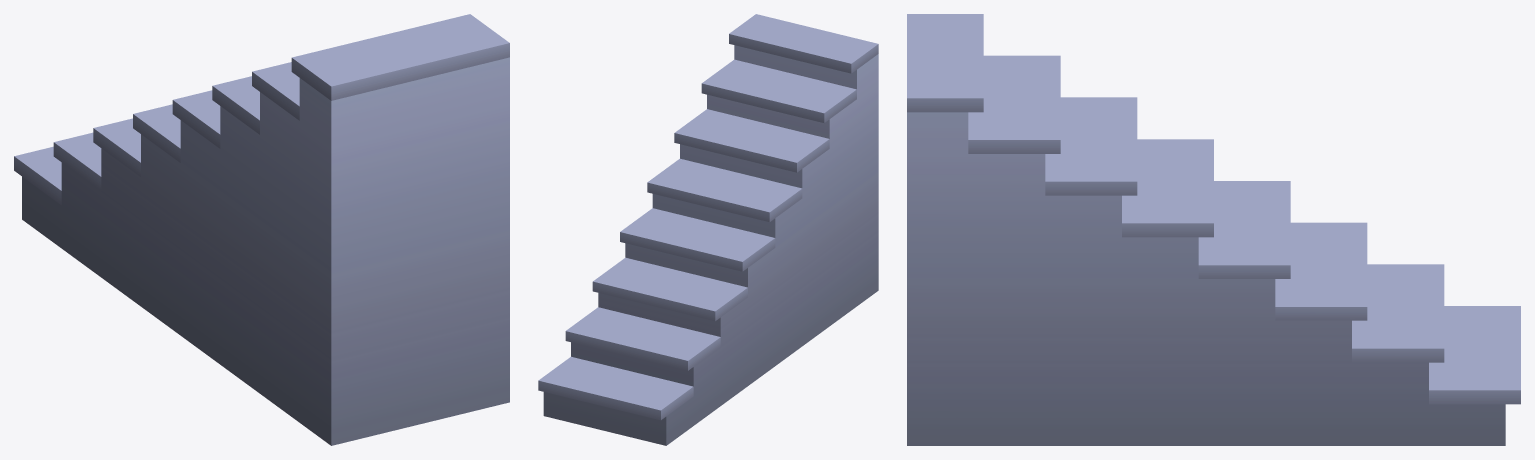
Rendered from kenney-building-stairs-closed.glb.
3 views of the same model, side by side, from view 1: azimuth 30°, elevation 25°; view 2: azimuth 150°, elevation 25°; view 3: azimuth 270°, elevation 25° (orthographic). The views are drawn at different scales.
Parts seen in each view (by area): view 1: stairs-closed; view 2: stairs-closed; view 3: stairs-closed.
Boxes of the visible parts, box(x1,y1,x2,y2) form: stairs-closed: box(14, 14, 509, 445); stairs-closed: box(538, 14, 878, 445); stairs-closed: box(907, 14, 1520, 445).
Bounding box in the file's own units: 1.3 × 2.5 × 4.
Materials: 1 (1 with a texture image).
